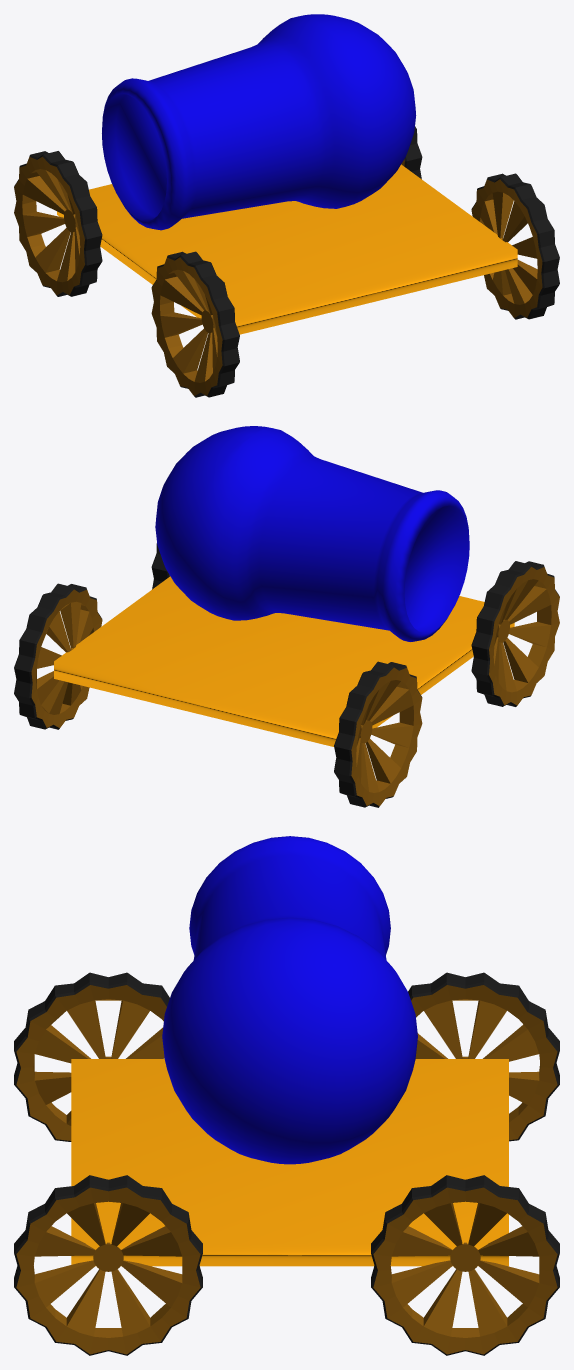
File: top.fbx
The picture shows the model from 3 angles, top to bottom: view 1: azimuth 30°, elevation 25°; view 2: azimuth 150°, elevation 25°; view 3: azimuth 270°, elevation 25°; orthographic projection. The views are drawn at different scales.
Visible parts, largest first — view 1: Sphere, Cube, Circle.003, Circle.002, Circle, Circle.001; view 2: Sphere, Cube, Circle.003, Circle.002, Circle.001; view 3: Sphere, Cube, Circle, Circle.001, Circle.003, Circle.002.
Boxes of the visible parts, left/top/right/bottom form: Sphere: left=102, top=14, right=416, bottom=230; Cube: left=57, top=164, right=517, bottom=334; Circle.003: left=151, top=251, right=239, bottom=397; Circle.002: left=14, top=151, right=102, bottom=296; Circle: left=471, top=173, right=559, bottom=319; Circle.001: left=401, top=126, right=422, bottom=179; Sphere: left=155, top=426, right=469, bottom=641; Cube: left=54, top=576, right=514, bottom=746; Circle.003: left=471, top=561, right=559, bottom=706; Circle.002: left=334, top=661, right=422, bottom=807; Circle.001: left=14, top=583, right=102, bottom=729; Sphere: left=162, top=836, right=417, bottom=1164; Cube: left=71, top=1059, right=508, bottom=1266; Circle: left=14, top=1175, right=202, bottom=1355; Circle.001: left=371, top=1175, right=559, bottom=1355; Circle.003: left=14, top=972, right=169, bottom=1141; Circle.002: left=408, top=972, right=559, bottom=1141.
Bounding box in the file's own units: 376 × 286 × 406.
